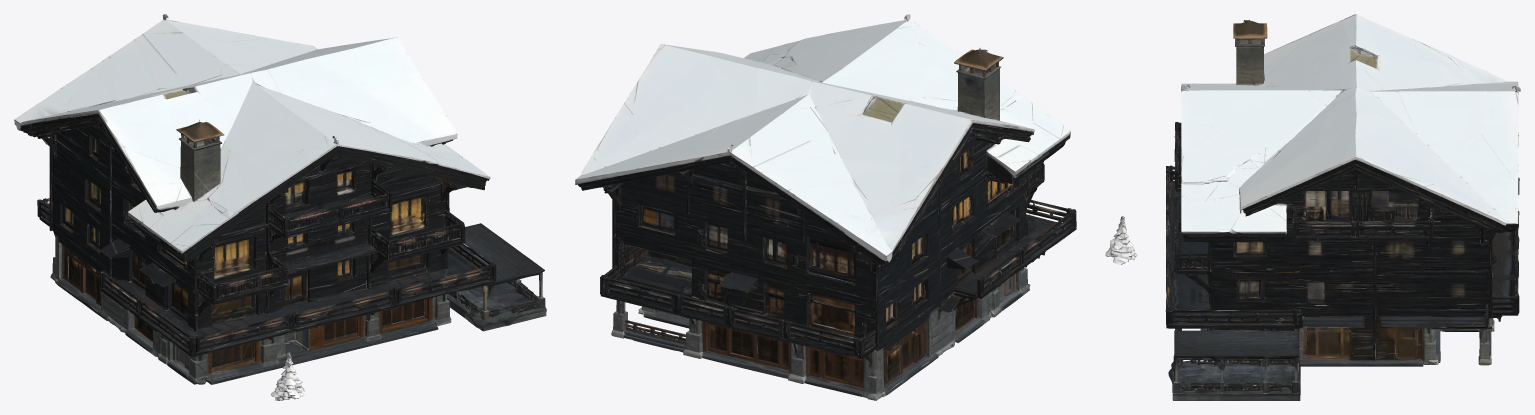
Rendered from hotel_chalet.glb.
3 renders of one model, left to right at view 1: azimuth 30°, elevation 25°; view 2: azimuth 150°, elevation 25°; view 3: azimuth 270°, elevation 25°, orthographic. The views are drawn at different scales.
Size of the model in its own units: 1.86 by 1.21 by 1.9.
1 material, 1 textured.
